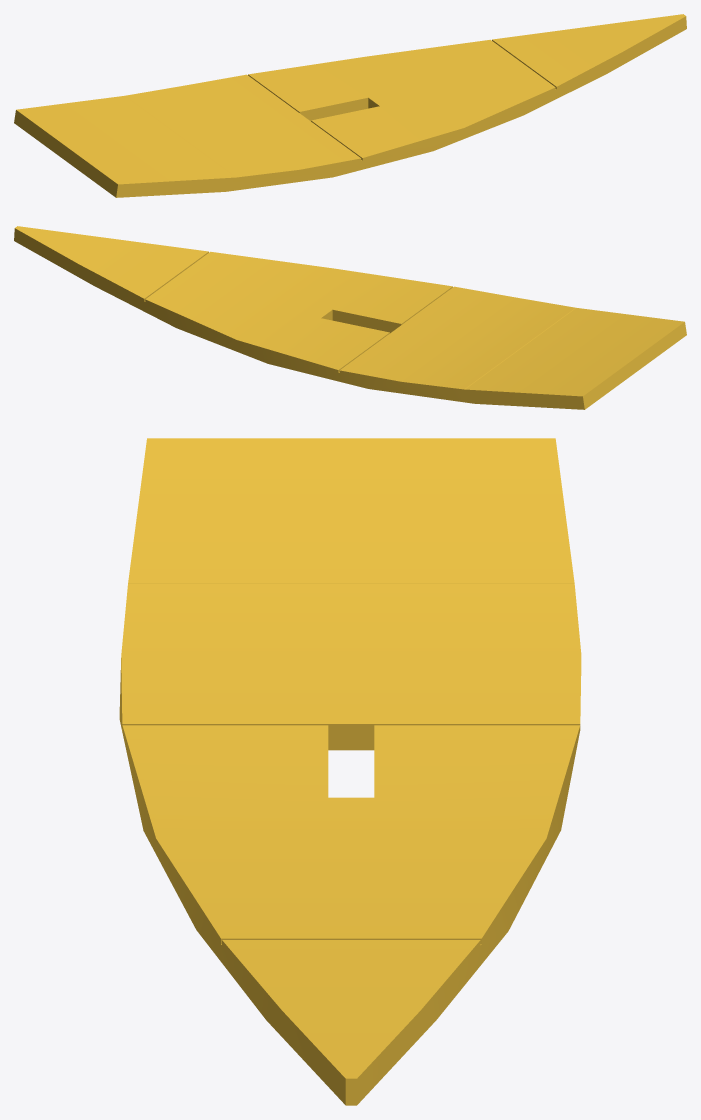
File: espuma.dae
The picture shows the model from 3 angles, top to bottom: view 1: azimuth 30°, elevation 25°; view 2: azimuth 150°, elevation 25°; view 3: azimuth 270°, elevation 25°; orthographic projection. The views are drawn at different scales.
Parts seen in each view (by area): view 1: ID2; view 2: ID2; view 3: ID2.
Boxes of the visible parts, x1,y1,x2,y2 form: ID2: (14,14,686,197); ID2: (14,226,686,409); ID2: (119,438,581,1105).
Size of the model in its own units: 2.48 by 0.7993 by 0.1638.
